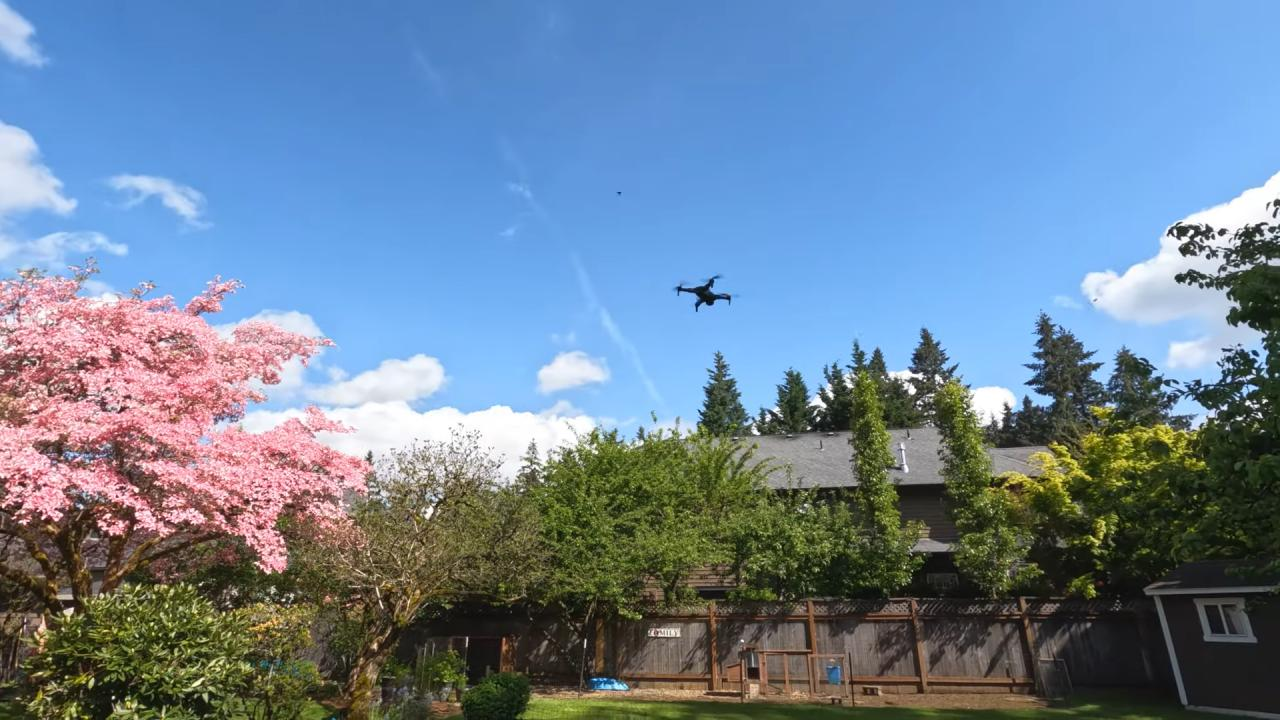Drone: (668, 264, 742, 322)
